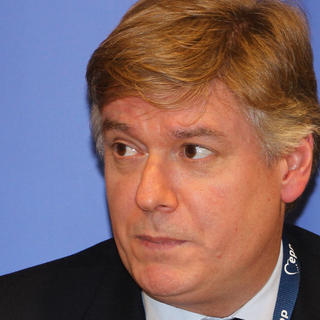eye: (175, 139, 221, 164), (106, 136, 145, 162)
